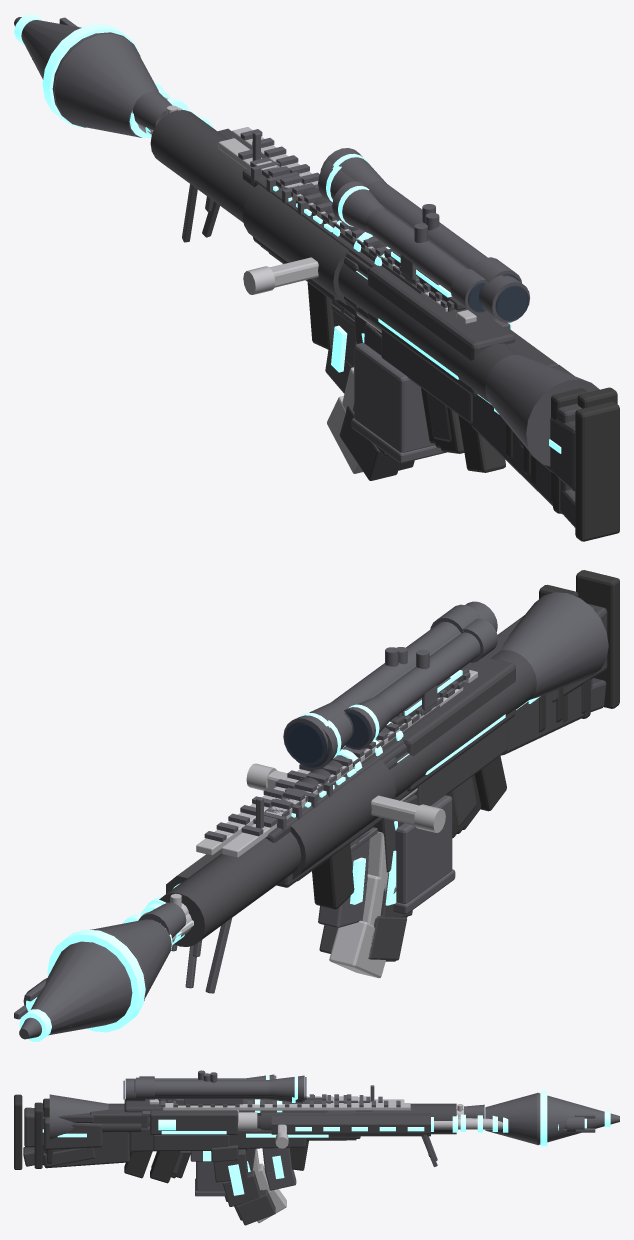
Rendered from weapons.glb.
3 renders of one model, top to bottom at view 1: azimuth 30°, elevation 25°; view 2: azimuth 150°, elevation 25°; view 3: azimuth 270°, elevation 25°, orthographic. The views are drawn at different scales.
Visible parts, largest first — view 1: rpg_p1, rpg_p6, lmg_p1, rpg_p3, lmg_p14, rpg_p5, lmg_p7, ar10_p25, lmg_p8, rifle_p1, sniper_p25, rpg_p7 (+21 smaller); view 2: rpg_p1, rpg_p3, rpg_p7, rpg_p5, lmg_p7, lmg_p14, ar10_p25, lmg_p1, lmg_p8, rpg_p6, rpg_p8, sniper_p25 (+28 smaller); view 3: sniper_p22, sniper_p25, sniper_p7, rpg_p6, rpg_p7, sniper_p20, boltsniper_p4, rpg_p3, boltsniper_p1, sniper_p2, sniper_p8, rpg_p1 (+37 smaller).
Part boxes in pixels (left/top/right/bottom): rpg_p1: left=150, top=110, right=520, bottom=402; rpg_p6: left=53, top=32, right=159, bottom=137; lmg_p1: left=575, top=401, right=619, bottom=541; rpg_p3: left=485, top=355, right=599, bottom=466; lmg_p14: left=354, top=342, right=435, bottom=452; rpg_p5: left=242, top=180, right=353, bottom=305; lmg_p7: left=367, top=265, right=514, bottom=396; ar10_p25: left=366, top=208, right=466, bottom=292; lmg_p8: left=381, top=329, right=472, bottom=423; rifle_p1: left=471, top=395, right=562, bottom=514; sniper_p25: left=366, top=180, right=487, bottom=268; rpg_p7: left=14, top=17, right=140, bottom=127; rpg_p1: left=159, top=650, right=536, bottom=946; rpg_p3: left=500, top=592, right=608, bottom=699; rpg_p7: left=19, top=929, right=146, bottom=1039; rpg_p5: left=286, top=756, right=395, bottom=879; lmg_p7: left=402, top=656, right=515, bottom=791; lmg_p14: left=395, top=795, right=452, bottom=903; ar10_p25: left=375, top=632, right=480, bottom=719; lmg_p1: left=576, top=570, right=619, bottom=708; lmg_p8: left=415, top=721, right=507, bottom=805; rpg_p6: left=92, top=919, right=171, bottom=998; rpg_p8: left=47, top=929, right=145, bottom=1032; sniper_p25: left=331, top=621, right=459, bottom=707; sniper_p22: left=271, top=1113, right=430, bottom=1136; sniper_p25: left=155, top=1080, right=269, bottom=1096; sniper_p7: left=150, top=1110, right=238, bottom=1134; rpg_p6: left=485, top=1093, right=538, bottom=1144; rpg_p7: left=537, top=1092, right=619, bottom=1145; sniper_p20: left=163, top=1103, right=410, bottom=1110; boltsniper_p4: left=129, top=1126, right=306, bottom=1151; rpg_p3: left=49, top=1094, right=108, bottom=1139; boltsniper_p1: left=44, top=1132, right=129, bottom=1168; sniper_p2: left=44, top=1117, right=102, bottom=1149; sniper_p8: left=153, top=1135, right=229, bottom=1150; rpg_p1: left=108, top=1103, right=456, bottom=1134.
Size of the model in its own units: 0.192 by 0.2835 by 1.03.
